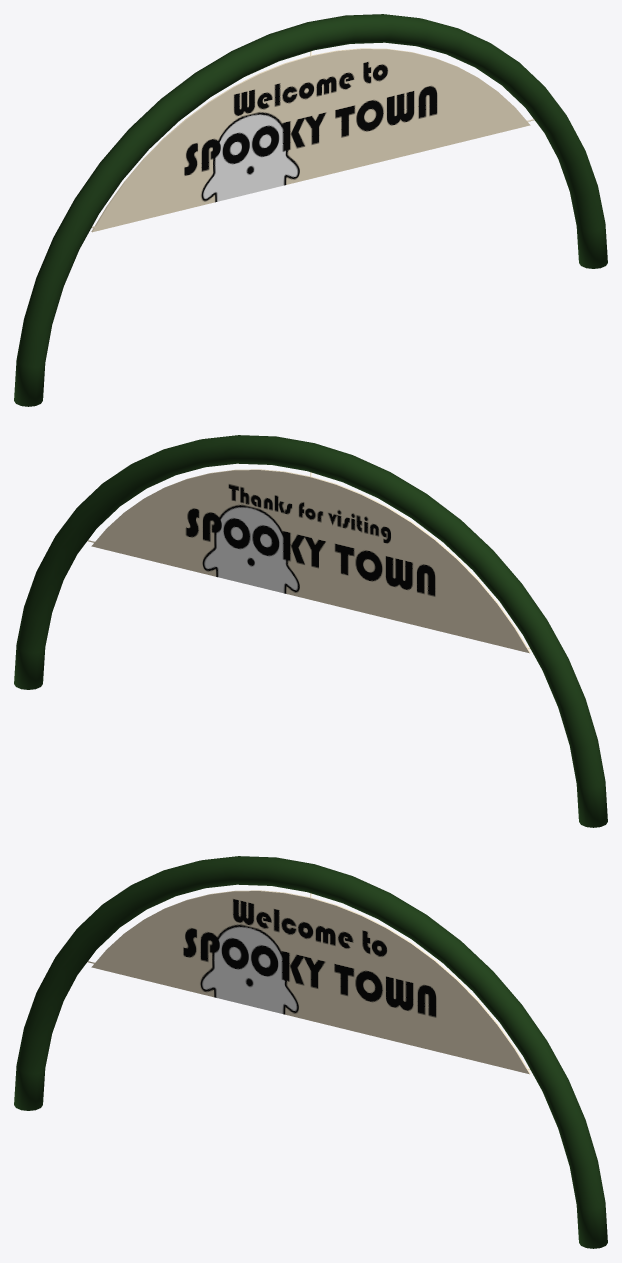
The model's file is archway.glb.
3 views of the same model, one above another, from view 1: azimuth 30°, elevation 25°; view 2: azimuth 150°, elevation 25°; view 3: azimuth 330°, elevation 25° (orthographic).
Visible parts, largest first — view 1: Sign, Archway; view 2: Sign, Archway; view 3: Sign, Archway.
Boxes of the visible parts, bbox=[...] form: Sign: bbox=[91, 48, 534, 232]; Archway: bbox=[14, 14, 607, 406]; Sign: bbox=[87, 469, 530, 653]; Archway: bbox=[14, 435, 607, 827]; Sign: bbox=[87, 890, 530, 1074]; Archway: bbox=[14, 856, 607, 1248].
Bounding box in the file's own units: 94 × 47 × 4.
2 materials, 1 textured.
